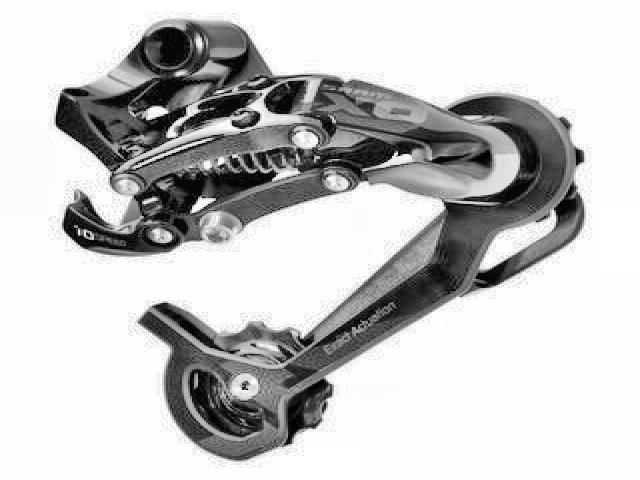rear_derailleur: (50, 14, 587, 468)
